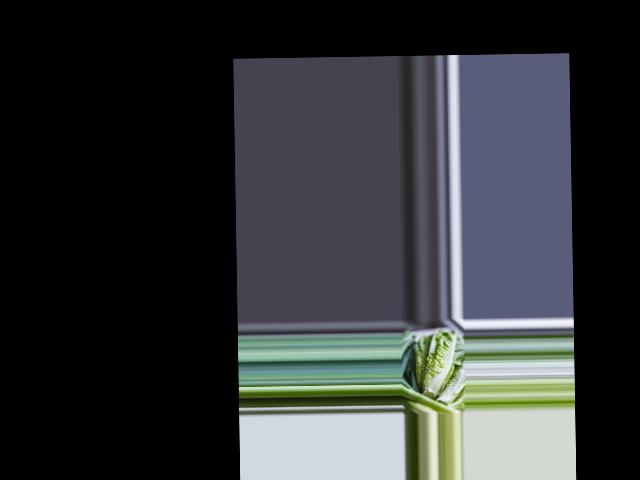lettuce: (414, 329, 458, 398)
